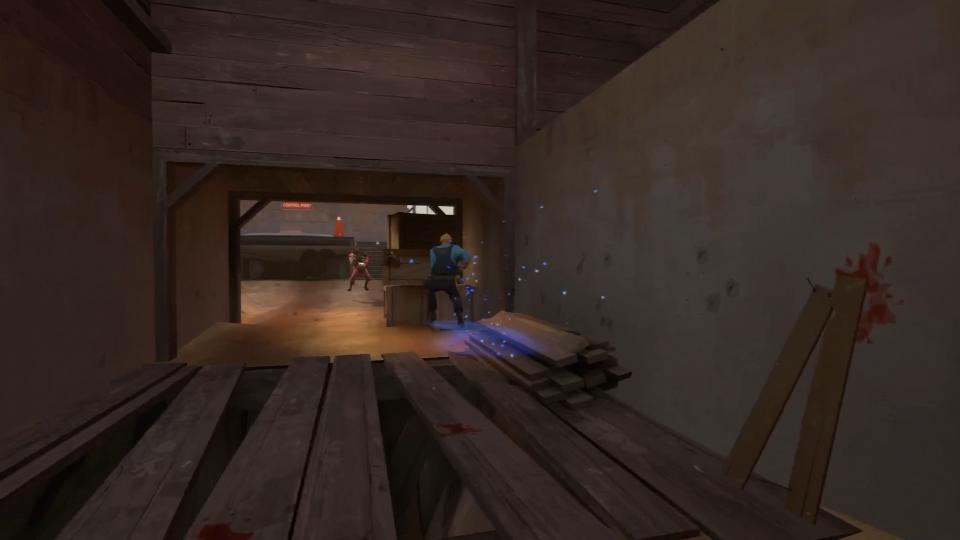Enemy: (423, 233, 471, 329), (348, 249, 371, 293)
